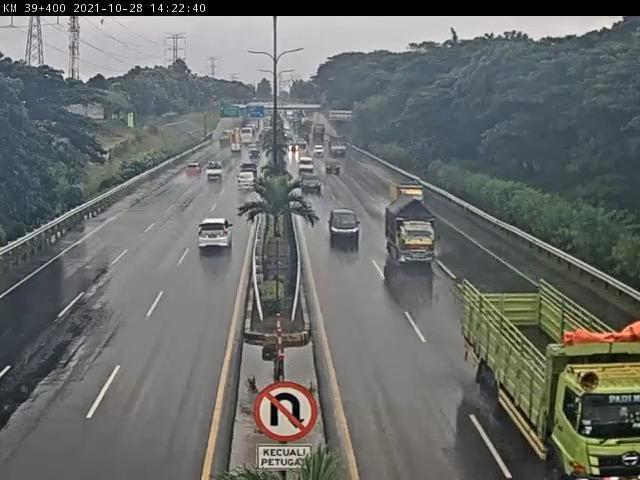car: (197, 217, 234, 251), (330, 210, 361, 241), (302, 172, 322, 194), (237, 173, 258, 190), (206, 163, 225, 180), (186, 163, 205, 179), (297, 157, 315, 173), (240, 162, 259, 177), (325, 158, 341, 174)
truck: (459, 278, 640, 480), (385, 192, 441, 267), (390, 180, 426, 211)
